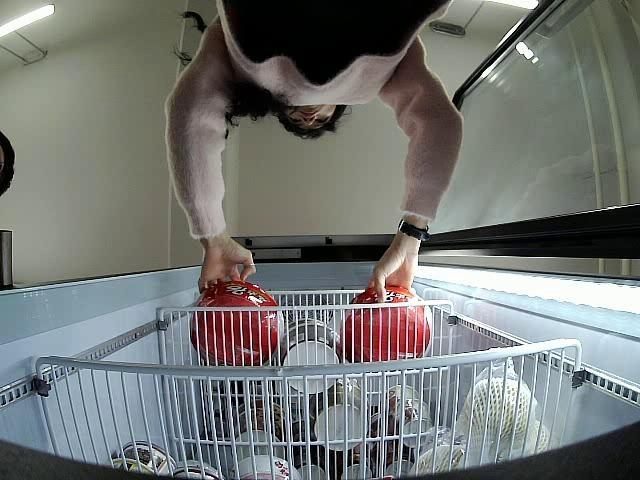10_wangTtukkeong: (190, 282, 284, 368), (341, 287, 433, 363)
